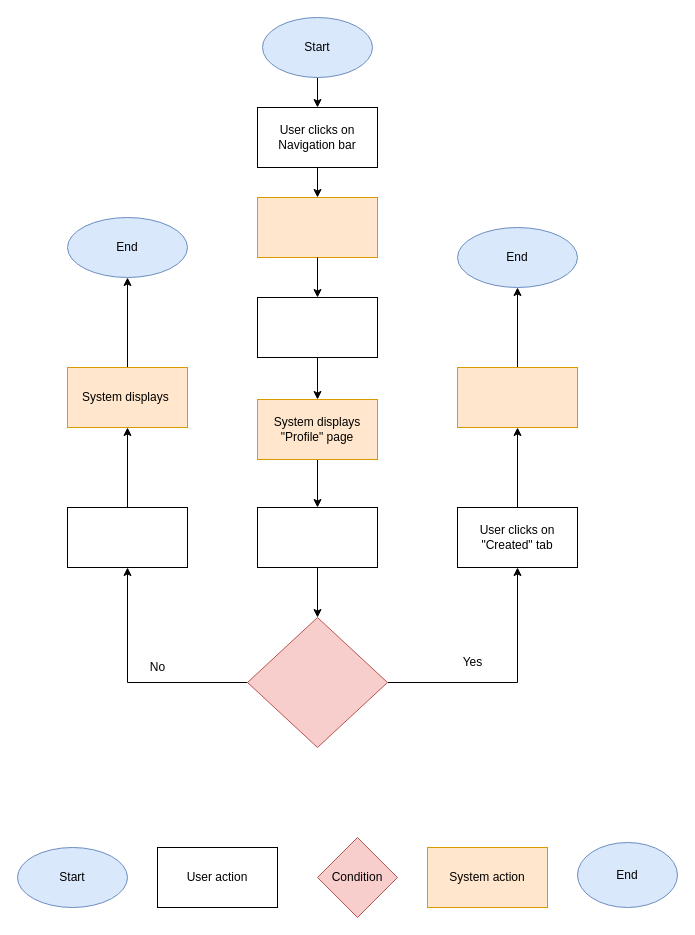
The diagram is 695 pixels wide and 935 high, and some of its shapes have lost their labels. Each missing label, with the centre of its shape:
System displays menu: point 317,227
System displays user created posts: point 517,397
User clicks on "Saved" tab: point 127,537
User first clicks on "Created" tab: point 317,682
User sees 2 tabs: Created and Saved: point 317,537
User selects "Profile" option in menu: point 317,327
